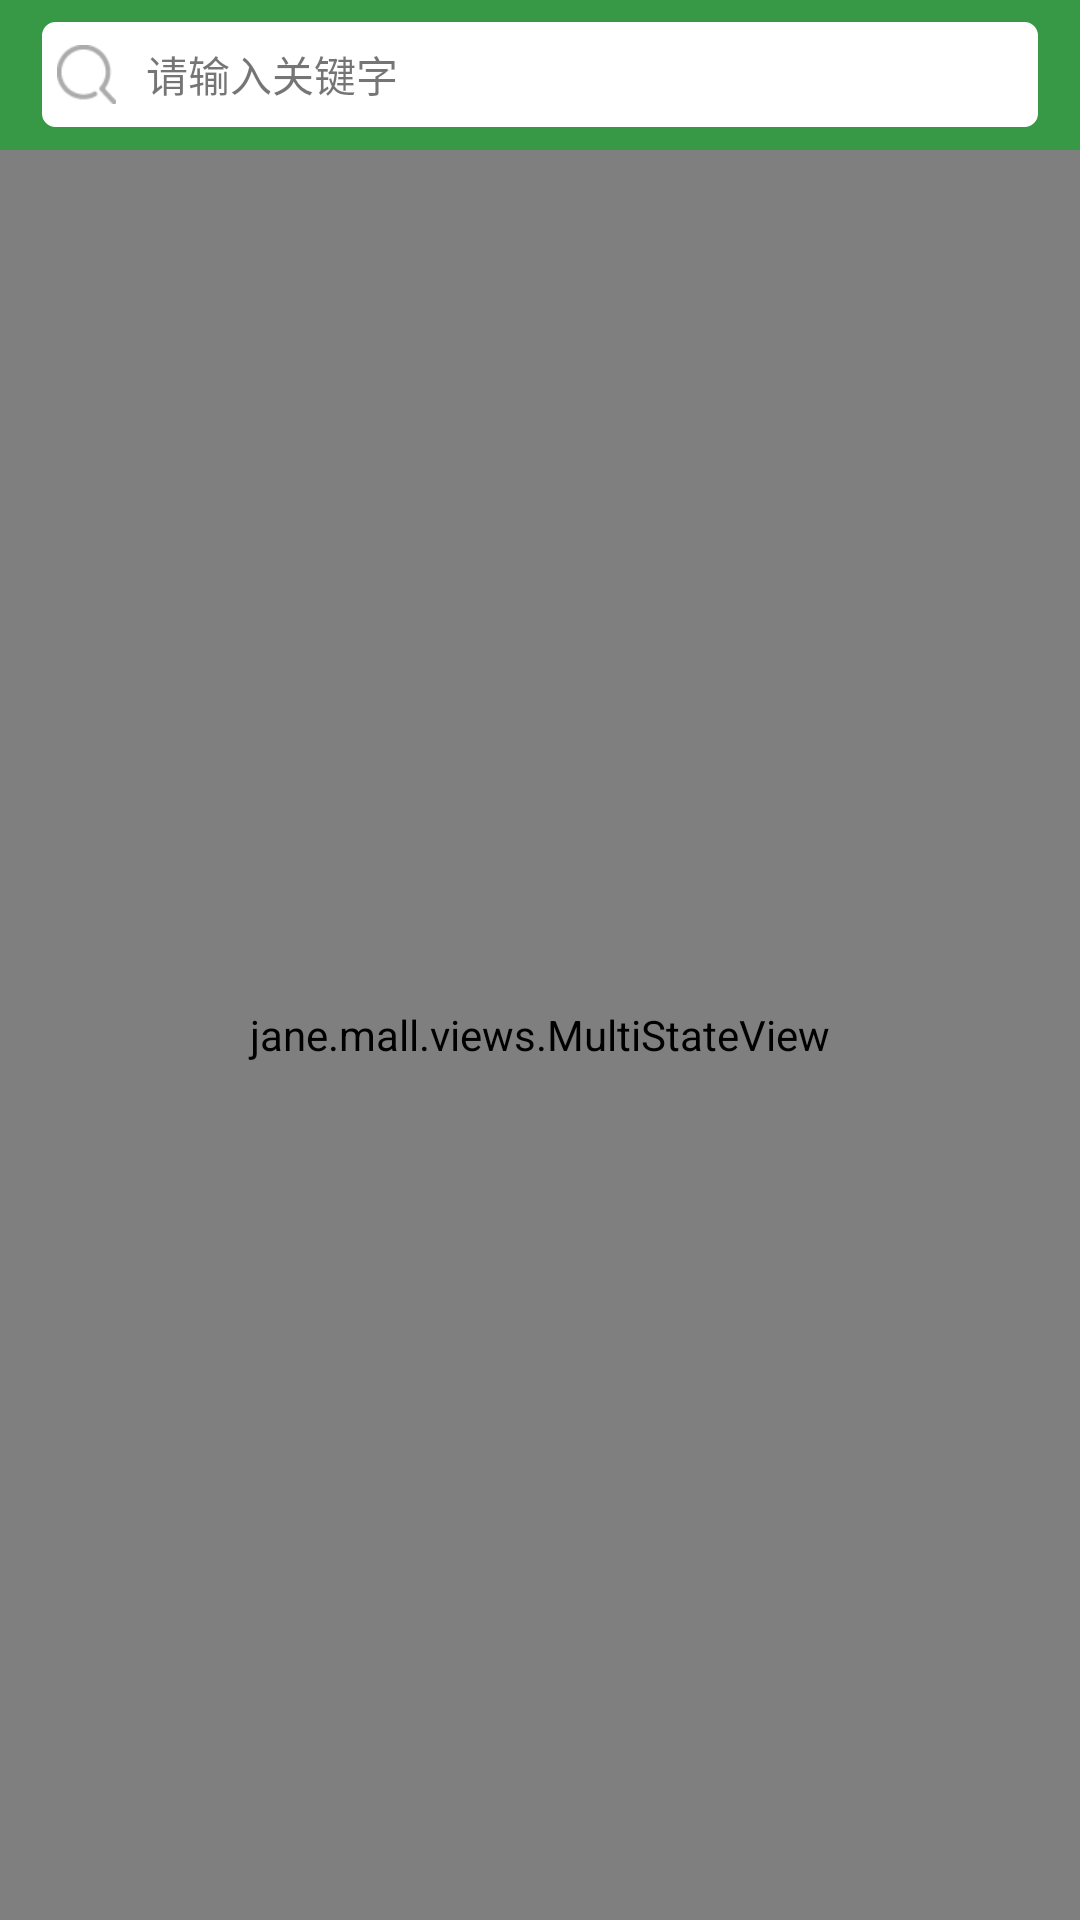

Screen size 1080*1920. Icon name, then its center in pixels as point (x, y):
search: point (86, 74)
